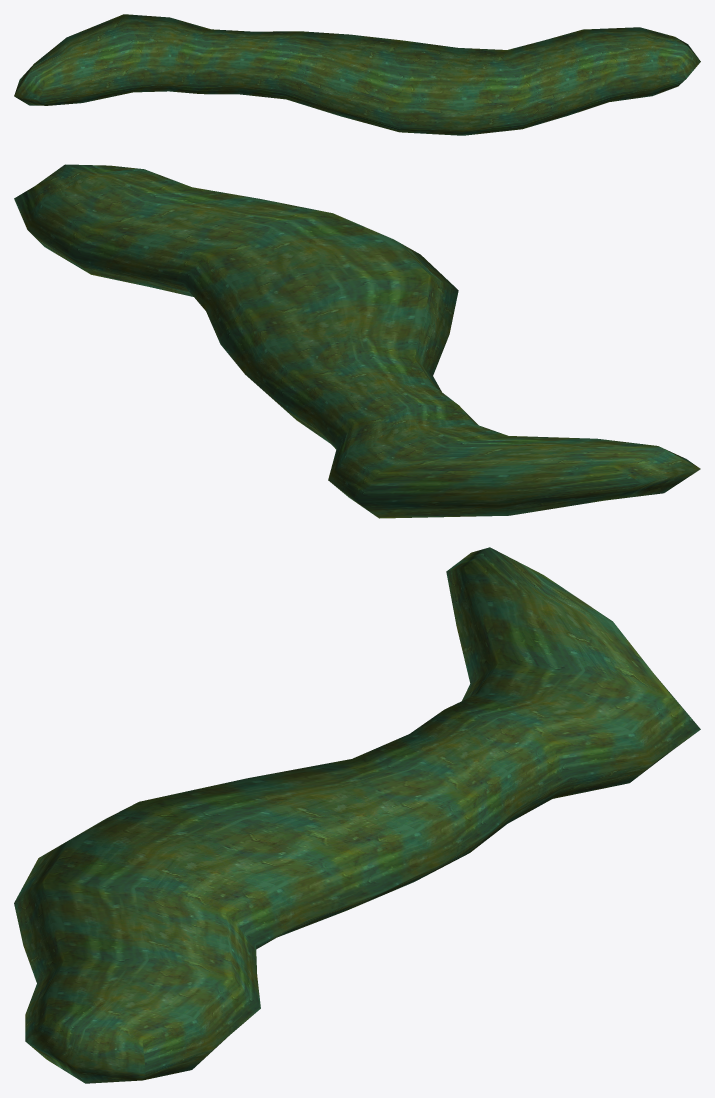
Rendered from MIRKWOOD_MIRK_PLAYSURFACE226.fbx.
3 views of the same model, one above another, from view 1: azimuth 30°, elevation 25°; view 2: azimuth 150°, elevation 25°; view 3: azimuth 270°, elevation 25° (orthographic). The views are drawn at different scales.
Parts seen in each view (by area): view 1: MIRKWOOD_MIRK_PLAYSURFACE226; view 2: MIRKWOOD_MIRK_PLAYSURFACE226; view 3: MIRKWOOD_MIRK_PLAYSURFACE226.
Boxes of the visible parts, <box> form: MIRKWOOD_MIRK_PLAYSURFACE226: <box>14,14,700,135</box>; MIRKWOOD_MIRK_PLAYSURFACE226: <box>14,164,700,518</box>; MIRKWOOD_MIRK_PLAYSURFACE226: <box>14,547,700,1083</box>.
Size of the model in its own units: 98299 by 8766 by 58802.
Materials: 1 (1 with a texture image).
